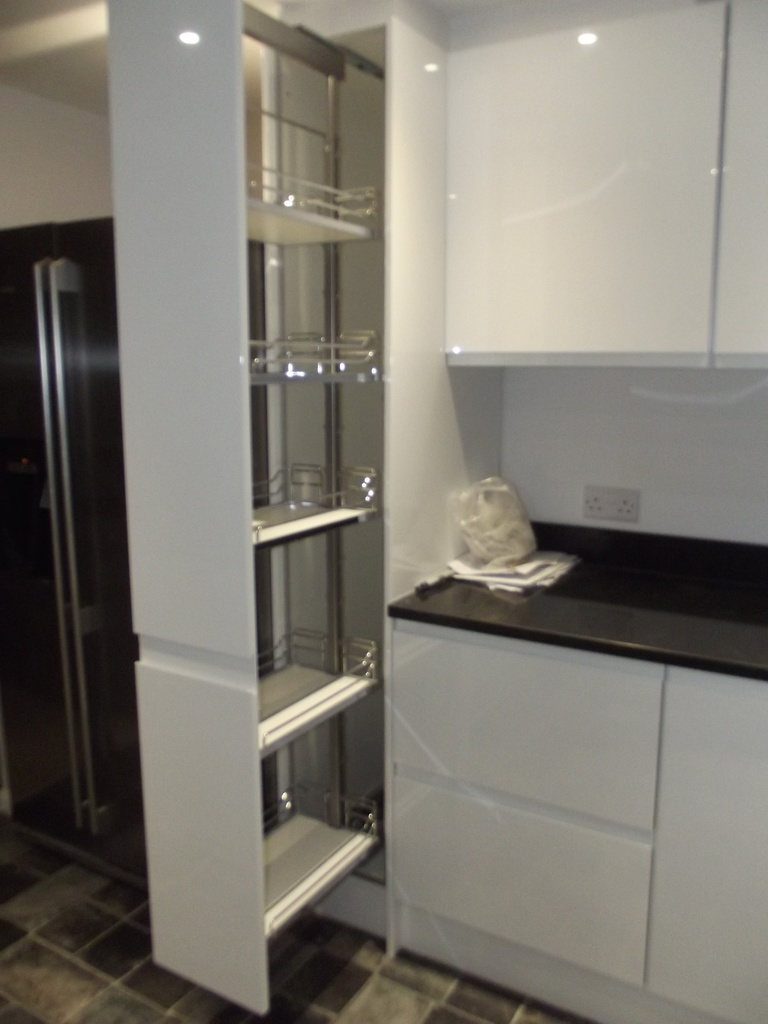cabinet door: (115, 46, 257, 639), (398, 772, 653, 990), (391, 631, 665, 826), (135, 651, 268, 1001)
handle: (19, 252, 79, 822), (49, 263, 105, 846), (137, 631, 260, 690)
refrigerator door: (61, 225, 139, 863), (6, 232, 83, 839)
